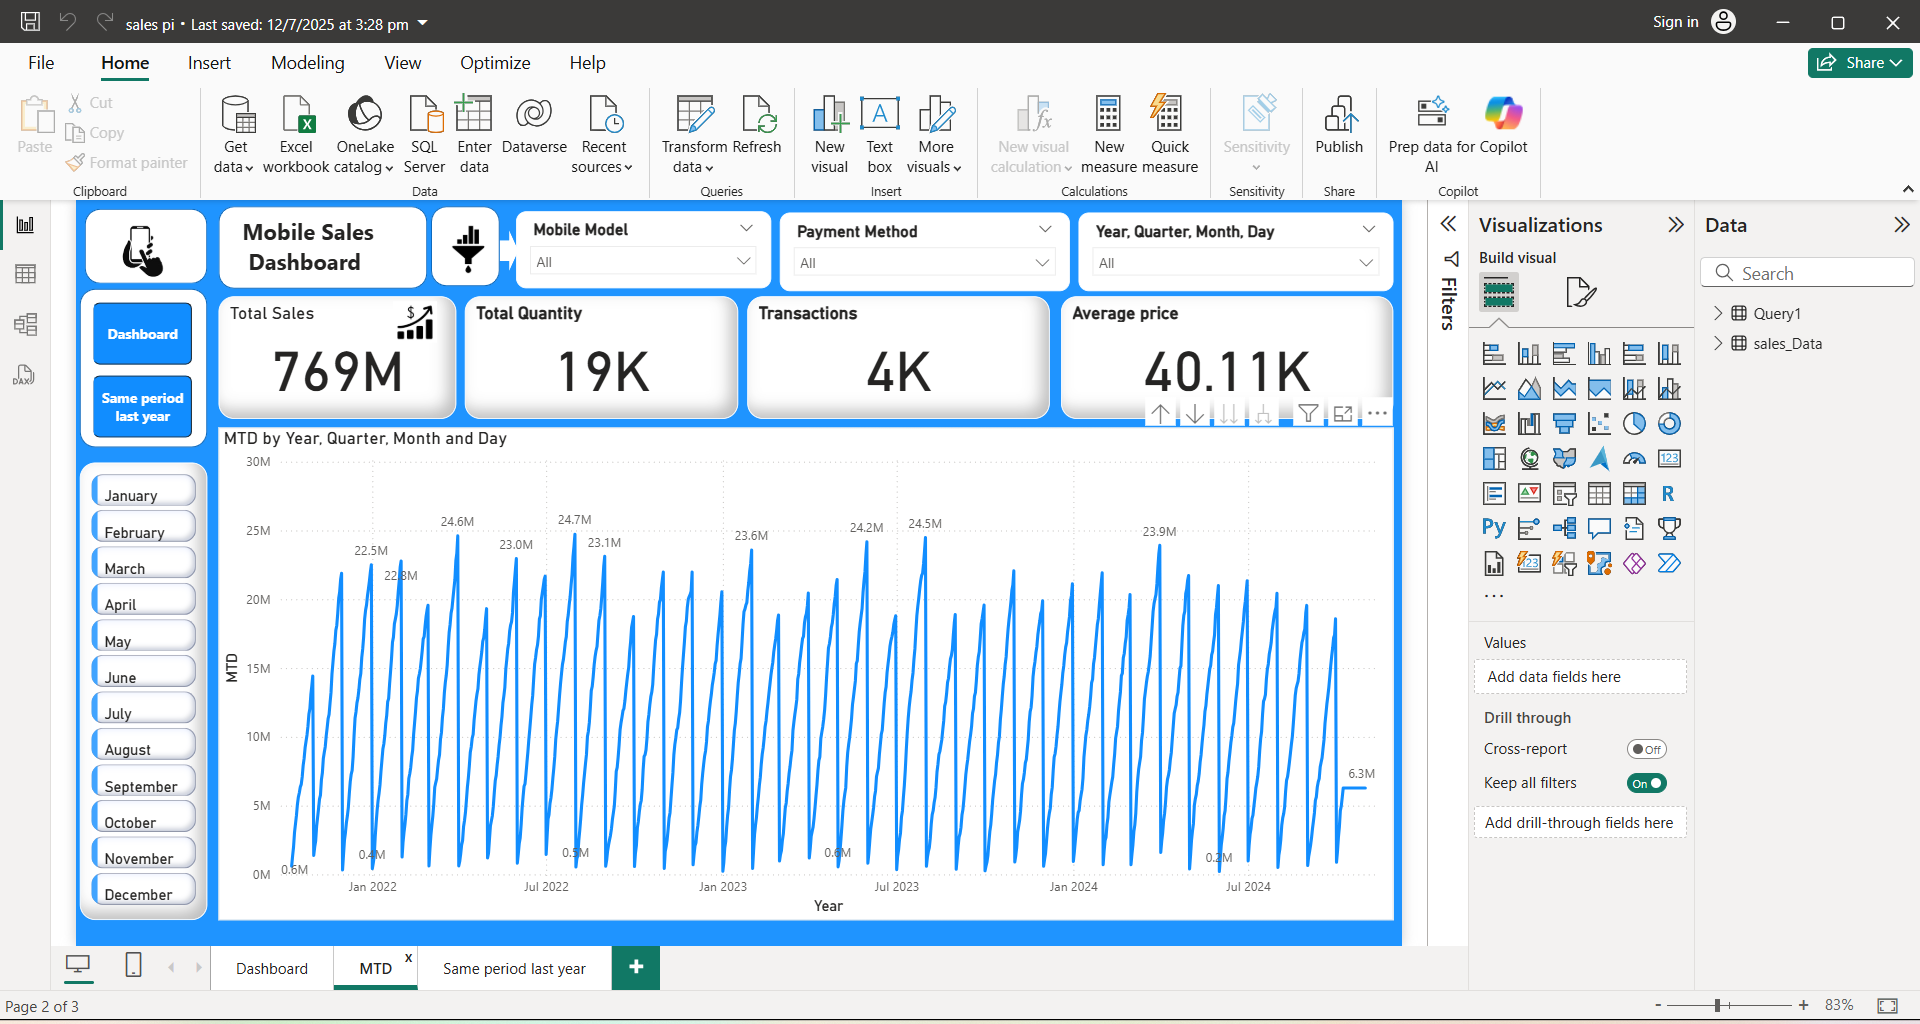

What the dashboard file says about the page in this screenshot:
{"tool":"powerbi","page":{"name":"MTD","canvas":[1280,720],"ordinal":1},"visuals":[{"type":"shape","box":[8.4,8.4,118.2,72.4],"z":0},{"type":"image","box":[16.9,0,95.3,98.9],"z":1000},{"type":"shape","box":[3.6,85.7,123.1,153.2],"z":2000},{"type":"card","title":"Total Sales","fields":{"Values":["sales_Data.Total Sales"]},"box":[137.5,92.9,229.2,118.2],"z":3000},{"type":"card","title":"Transactions","fields":{"Values":["sales_Data.Transaction ID"]},"box":[647.9,92.9,292,118.2],"z":4000},{"type":"card","title":"Total Quantity","fields":{"Values":["sales_Data.Units Sold"]},"box":[375.2,92.9,264.2,118.2],"z":5000},{"type":"card","title":"Average price","fields":{"Values":["sales_Data.Price Per Unit"]},"box":[950.7,92.9,320.9,118.2],"z":6000},{"type":"image","box":[298,92.9,59.1,49.5],"z":7000},{"type":"slicer","fields":{"Values":["sales_Data.Mobile Model"]},"box":[424.7,10.9,246.1,74.8],"z":8000},{"type":"slicer","fields":{"Values":["sales_Data.Payment Method"]},"box":[679.2,12.1,279.9,76],"z":9000},{"type":"slicer","fields":{"Values":["Query1.Date.Variation.Date Hierarchy.Year","Query1.Date.Variation.Date Hierarchy.Quarter","Query1.Date.Variation.Date Hierarchy.Month","Query1.Date.Variation.Date Hierarchy.Day"]},"box":[967.6,12.1,304,76],"z":10000},{"type":"shape","box":[342.6,6,66.4,77.2],"z":11000},{"type":"image","box":[348.7,16.9,60.3,61.5],"z":12000},{"type":"shape","box":[409,29,18.1,39.8],"z":13000},{"type":"shape","box":[137.5,6,201.5,79.6],"z":14000},{"type":"textbox","box":[155.6,10.9,167.7,71.2],"z":15000},{"type":"lineChart","fields":{"Category":["Query1.Date.Variation.Date Hierarchy.Year","Query1.Date.Variation.Date Hierarchy.Quarter","Query1.Date.Variation.Date Hierarchy.Month","Query1.Date.Variation.Date Hierarchy.Day"],"Y":["sales_Data.MTD"]},"box":[137.5,219.6,1134.1,475.3],"z":17000},{"type":"advancedSlicerVisual","fields":{"Values":["Query1.Date.Variation.Date Hierarchy.Month"]},"box":[3.6,253.4,123.1,441.6],"z":18000},{"type":"pageNavigator","box":[16.9,98.9,95.3,131.5],"z":18001}]}

Visuals, with their boxes on the page's 1280x720 design canvas (x1, y1, x2, y2). These are canvas units, not pixel positions in the 1920x1024 screenshot, which may show the page scaled, cropped or inside an application window:
shape: [8, 8, 127, 81]
image: [17, 0, 112, 99]
shape: [4, 86, 127, 239]
"Total Sales" card: [138, 93, 367, 211]
"Transactions" card: [648, 93, 940, 211]
"Total Quantity" card: [375, 93, 639, 211]
"Average price" card: [951, 93, 1272, 211]
image: [298, 93, 357, 142]
slicer - sales_Data.Mobile Model: [425, 11, 671, 86]
slicer - sales_Data.Payment Method: [679, 12, 959, 88]
slicer - Query1.Date.Variation.Date Hierarchy.Year x Query1.Date.Variation.Date Hierarchy.Quarter: [968, 12, 1272, 88]
shape: [343, 6, 409, 83]
image: [349, 17, 409, 78]
shape: [409, 29, 427, 69]
shape: [138, 6, 339, 86]
textbox: [156, 11, 323, 82]
lineChart - Query1.Date.Variation.Date Hierarchy.Year x Query1.Date.Variation.Date Hierarchy.Quarter: [138, 220, 1272, 695]
advancedSlicerVisual - Query1.Date.Variation.Date Hierarchy.Month: [4, 253, 127, 695]
pageNavigator: [17, 99, 112, 230]
